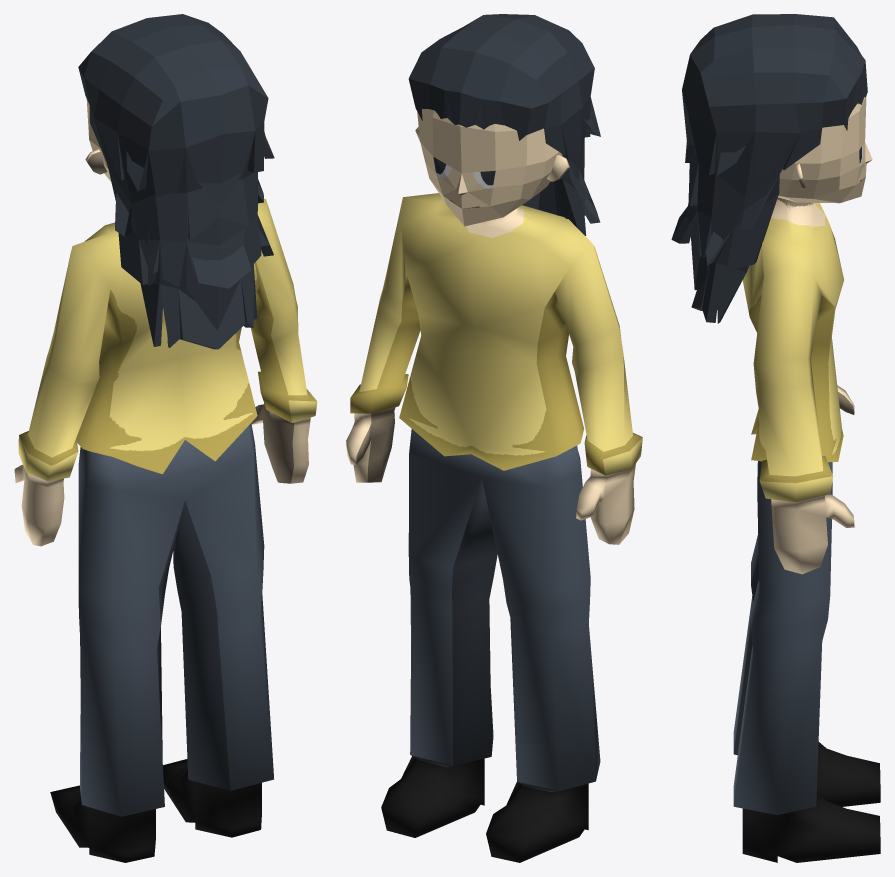
Rendered from M LONG HAIR.glb.
3 renders of one model, left to right at view 1: azimuth 30°, elevation 25°; view 2: azimuth 150°, elevation 25°; view 3: azimuth 270°, elevation 25°, orthographic. The views are drawn at different scales.
Parts seen in each view (by area): view 1: MEN OFFICE, LONG HAIR; view 2: MEN OFFICE, LONG HAIR, MAN HEAD; view 3: MEN OFFICE, LONG HAIR, MAN HEAD.
Boxes of the visible parts, box(x1,y1,x2,y2) form: MEN OFFICE: box(14, 199, 317, 862); LONG HAIR: box(78, 14, 274, 349); MEN OFFICE: box(346, 193, 642, 862); LONG HAIR: box(408, 14, 600, 235); MAN HEAD: box(417, 109, 562, 226); MEN OFFICE: box(733, 197, 880, 862); LONG HAIR: box(671, 14, 867, 323); MAN HEAD: box(778, 97, 872, 203).
Size of the model in its own units: 3.32 by 9.06 by 2.16.
4 materials, 4 textured.
